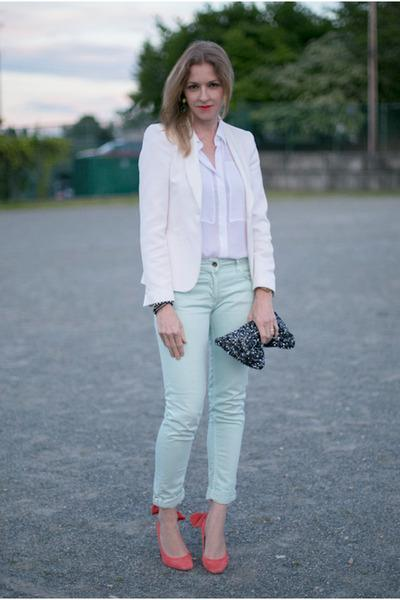jacket: (139, 120, 274, 305)
pants: (152, 252, 256, 507)
shirt: (184, 133, 246, 266)
shoe: (158, 320, 294, 571)
